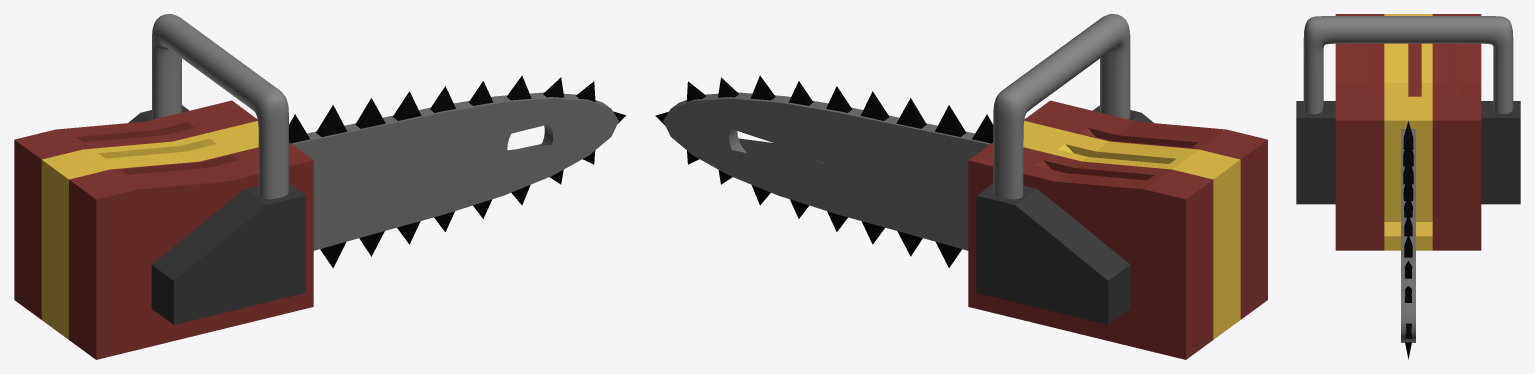
File: Electric.fbx
3 renders of one model, left to right at view 1: azimuth 30°, elevation 25°; view 2: azimuth 150°, elevation 25°; view 3: azimuth 270°, elevation 25°, orthographic. The views are drawn at different scales.
Visible parts, largest first — view 1: Cube.002, Cylinder, Cube.003, Cube.004, Cube.005; view 2: Cube.002, Cylinder, Cube.003, Cube.004, Cube.005; view 3: Cube.002, Cube.004, Cube.003, Cylinder, Cube.005.
Part boxes in pixels (box(x1,y1,x2,y2)): Cube.002: box(14, 100, 313, 359); Cylinder: box(291, 92, 618, 250); Cube.003: box(128, 105, 305, 324); Cube.004: box(152, 14, 288, 199); Cube.005: box(289, 75, 595, 267); Cube.002: box(968, 100, 1267, 359); Cylinder: box(663, 92, 990, 250); Cube.003: box(976, 105, 1153, 324); Cube.004: box(993, 14, 1130, 199); Cube.005: box(686, 75, 993, 267); Cube.002: box(1335, 14, 1481, 250); Cube.004: box(1303, 16, 1513, 114); Cube.003: box(1296, 101, 1520, 204); Cylinder: box(1401, 129, 1415, 342); Cube.005: box(1403, 121, 1413, 359).
Bounding box in the file's own units: 379 × 154 × 145.
